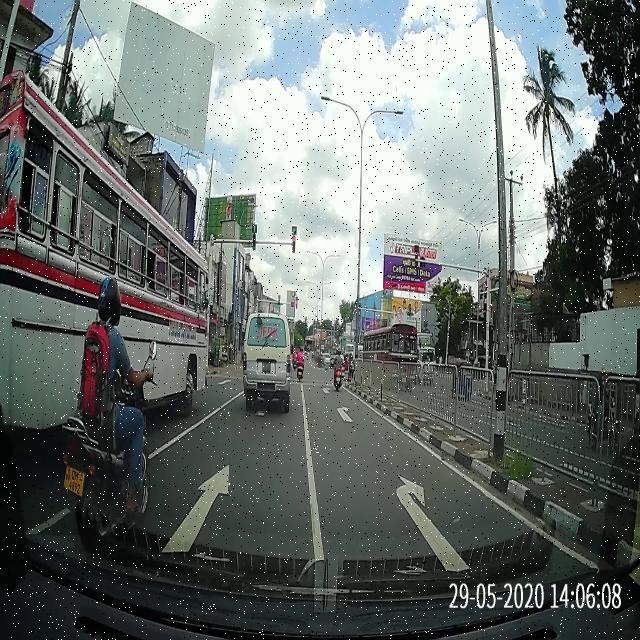forward: (147, 435, 329, 562)
